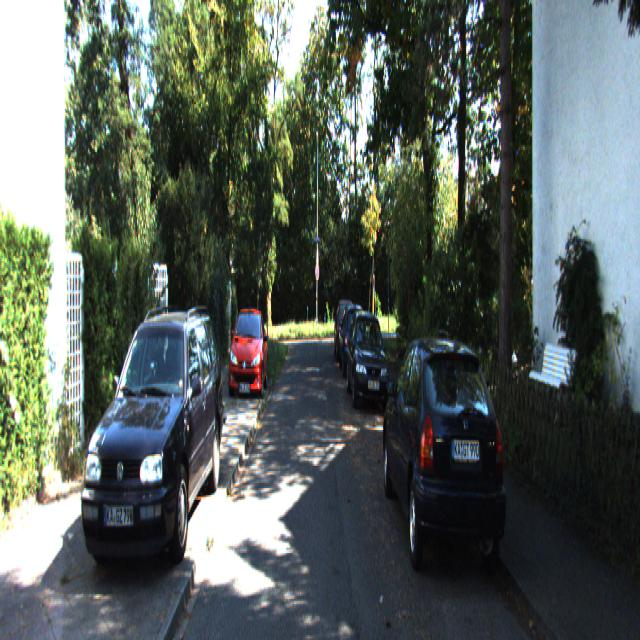Car: (78, 310, 226, 591), (381, 326, 508, 585), (345, 304, 389, 408), (227, 300, 268, 400), (340, 305, 370, 379), (334, 297, 359, 360)
